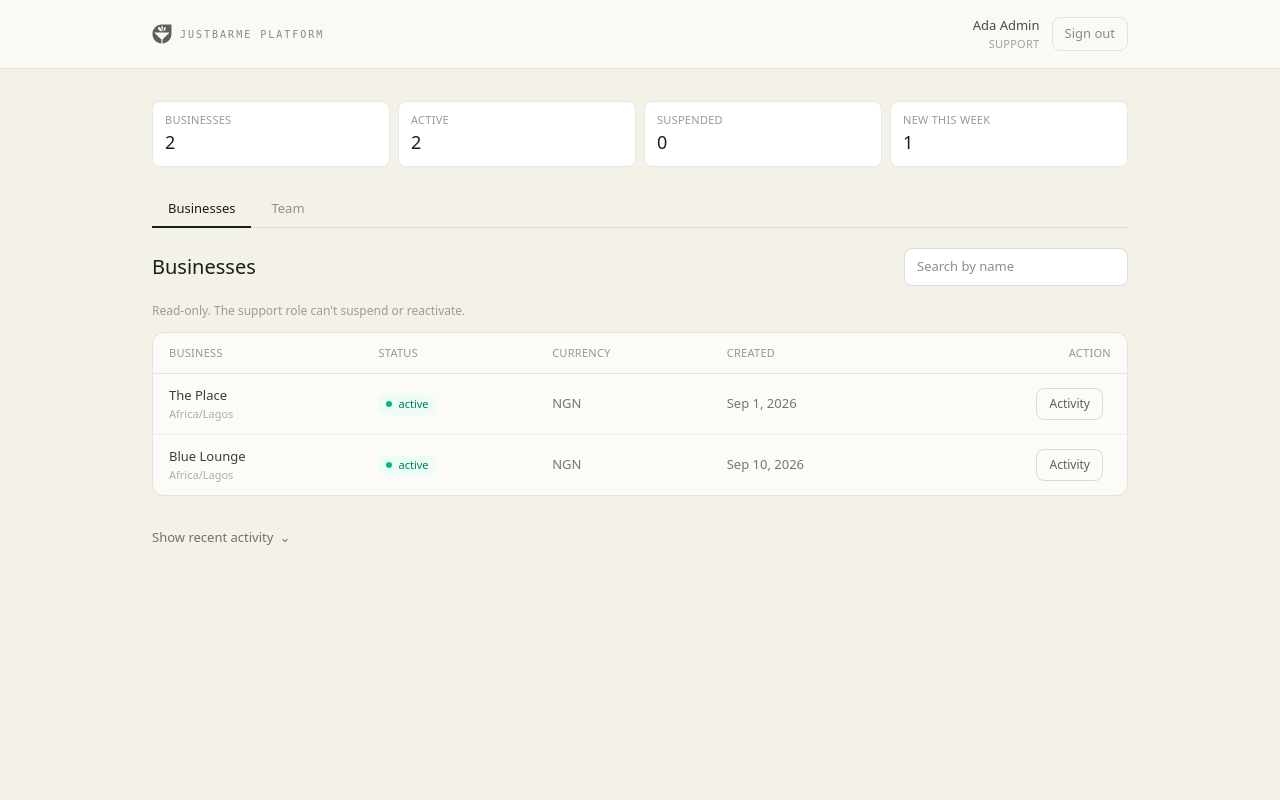
Scenario: platform admin dashboard › shows platform stats and filters businesses by name
The width and height of the screenshot is (1280, 800).
Expected: the text "The Place" is shown, left=169, top=386, right=227, bottom=404
Expected: the text "Blue Lounge" is shown, left=169, top=447, right=246, bottom=465
In the search field named "search businesses": coordinates (1016, 267) left=904, top=248, right=1128, bottom=286, type "blue"
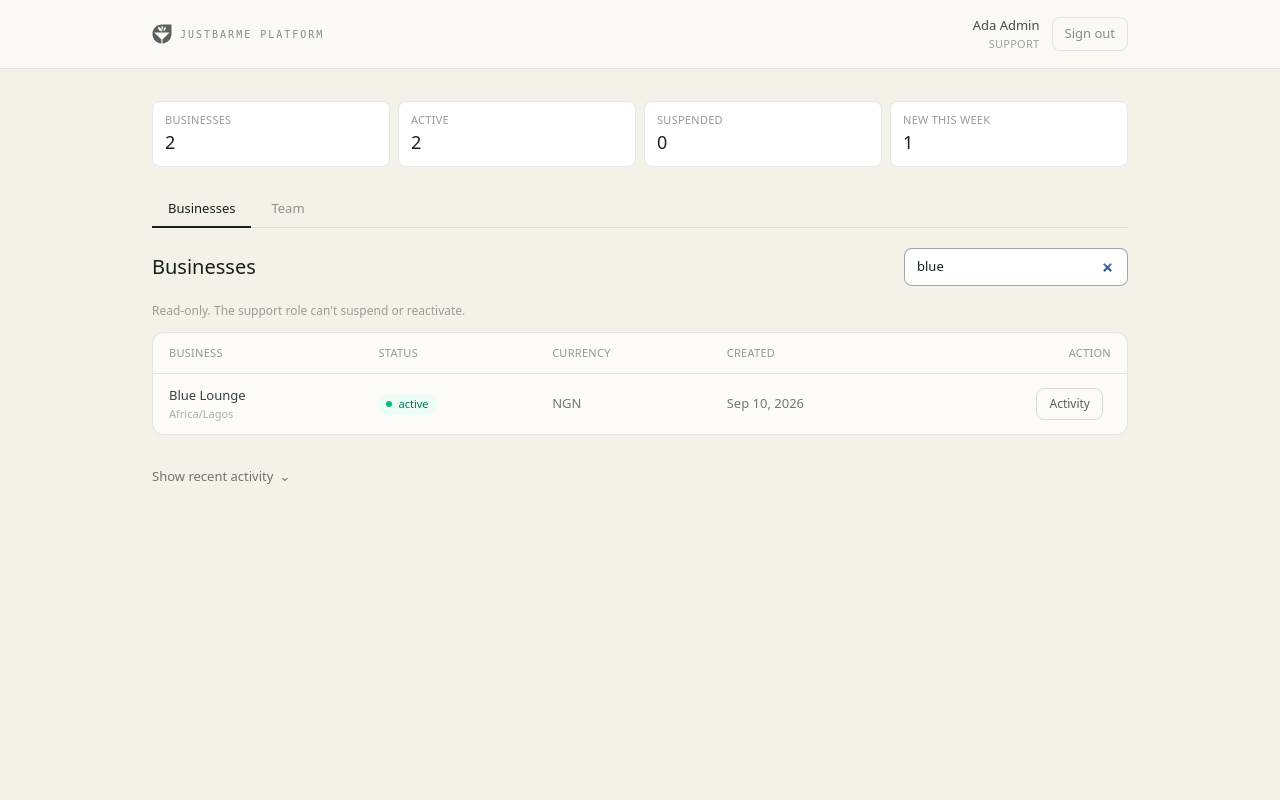
Expected: the text "Blue Lounge" is shown, left=169, top=386, right=246, bottom=404
Now the text "The Place" is gone
Replace the text in the search field named "search businesses" with "zzz": coordinates (1016, 267) left=904, top=248, right=1128, bottom=286
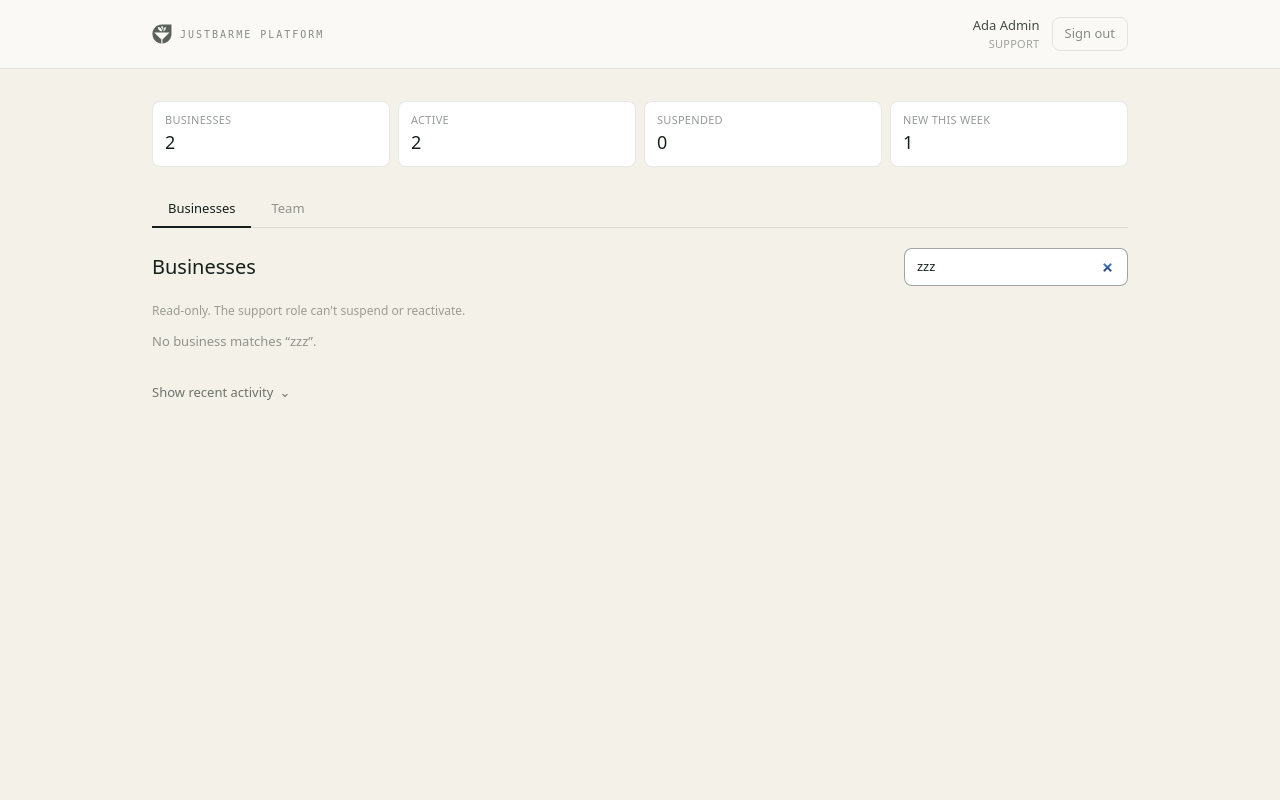
Now the text "No business matches “zzz”." is shown, box left=152, top=332, right=316, bottom=350
